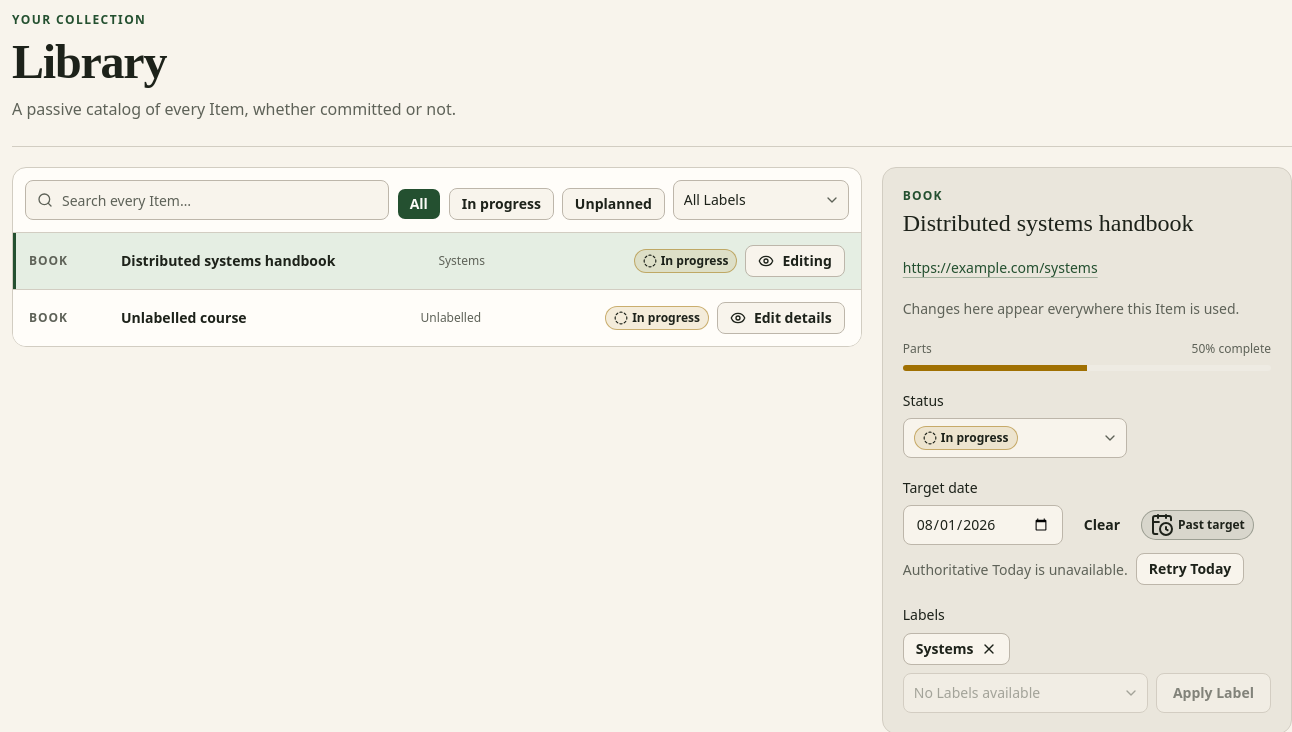
Test: Library room › filters by the User's Label through the bookmarked URL
Click the dropdown named "Filter by Label": (761, 200) [673,180,849,220]
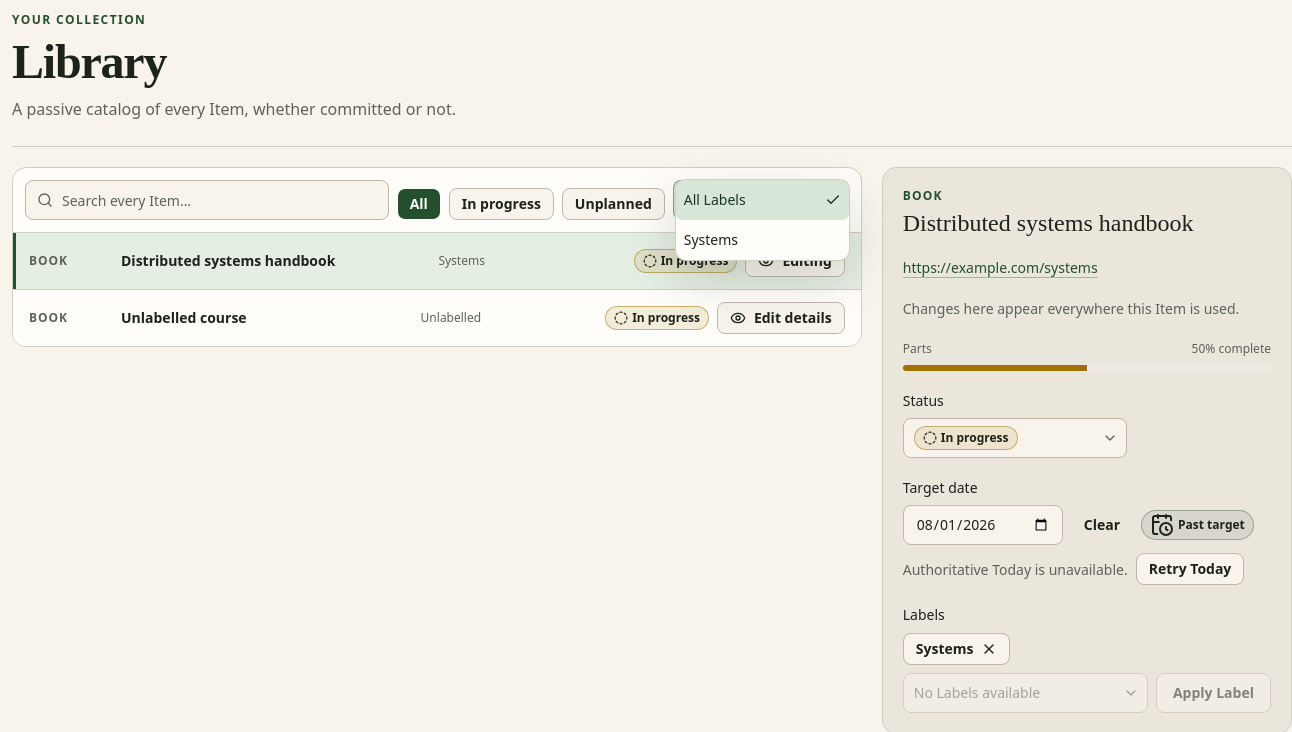
Click the option "Systems": (711, 240) [684,230,738,249]
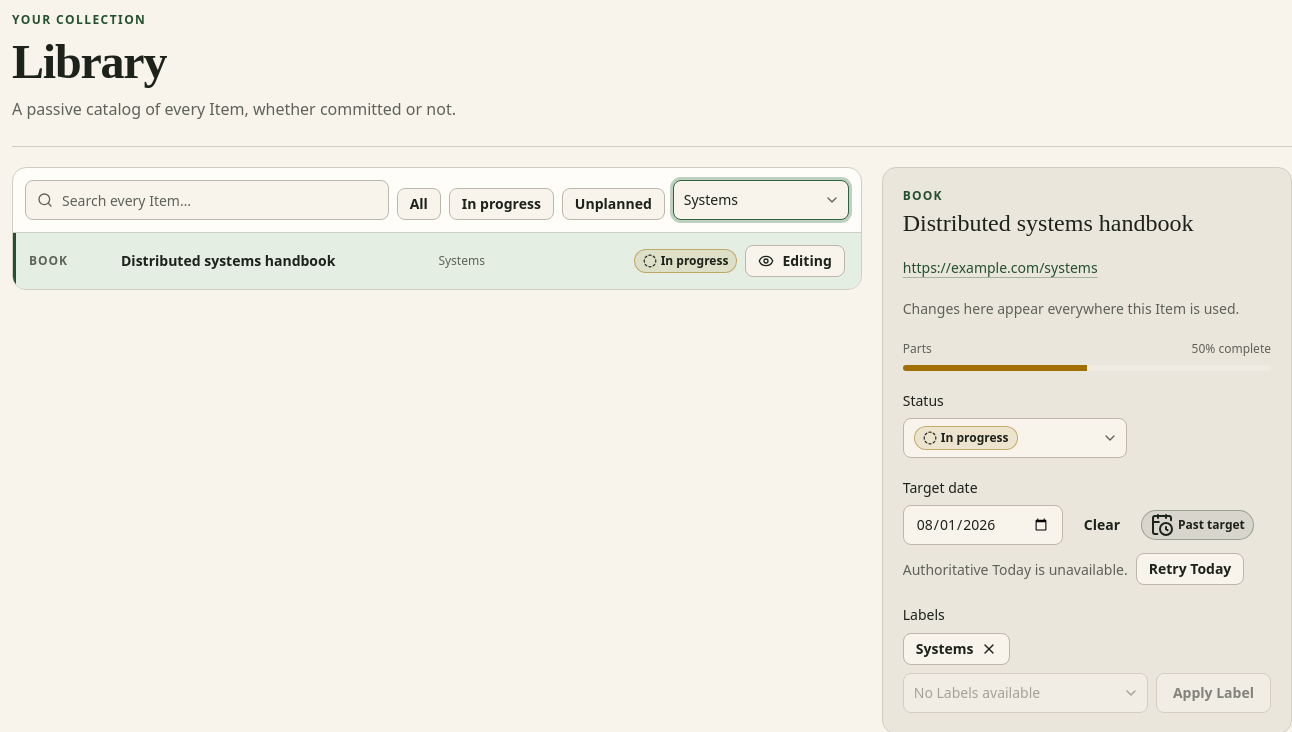
expect the link "Distributed systems handbook" is shown: met, box [121,251,335,270]
expect the link "Unlabelled course" is gone: met
